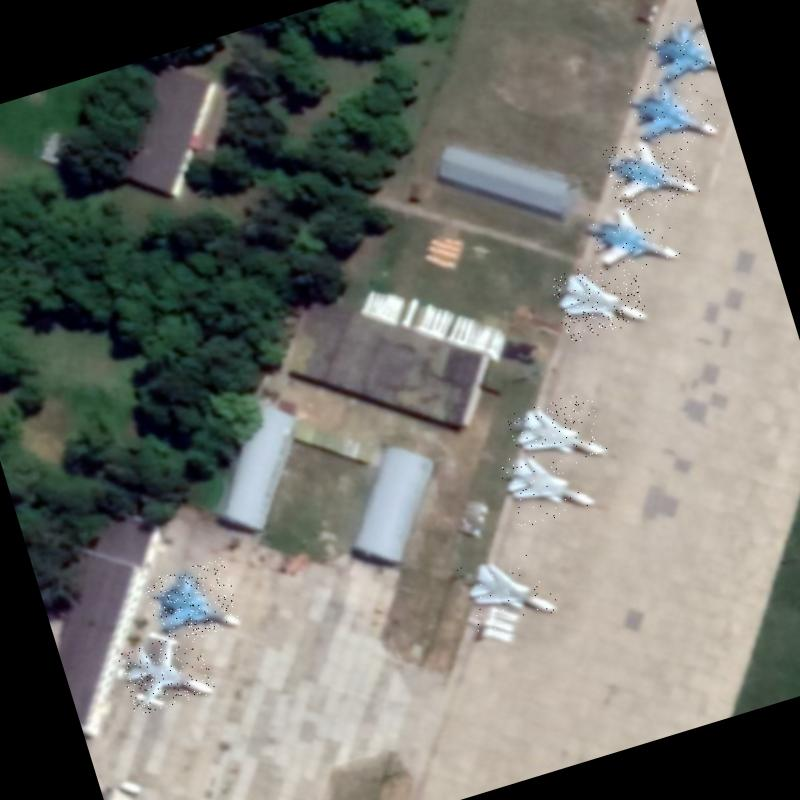A19: (143, 557, 244, 649), (622, 66, 722, 158), (581, 192, 682, 282), (601, 126, 701, 216), (641, 14, 717, 90)
A20: (497, 438, 600, 530), (457, 544, 560, 636), (506, 389, 609, 479), (548, 254, 650, 344), (116, 628, 216, 717)
